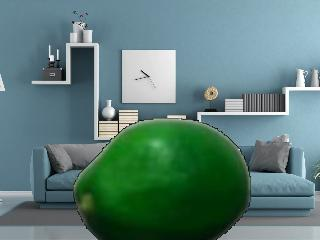lime: (73, 118, 250, 240)
